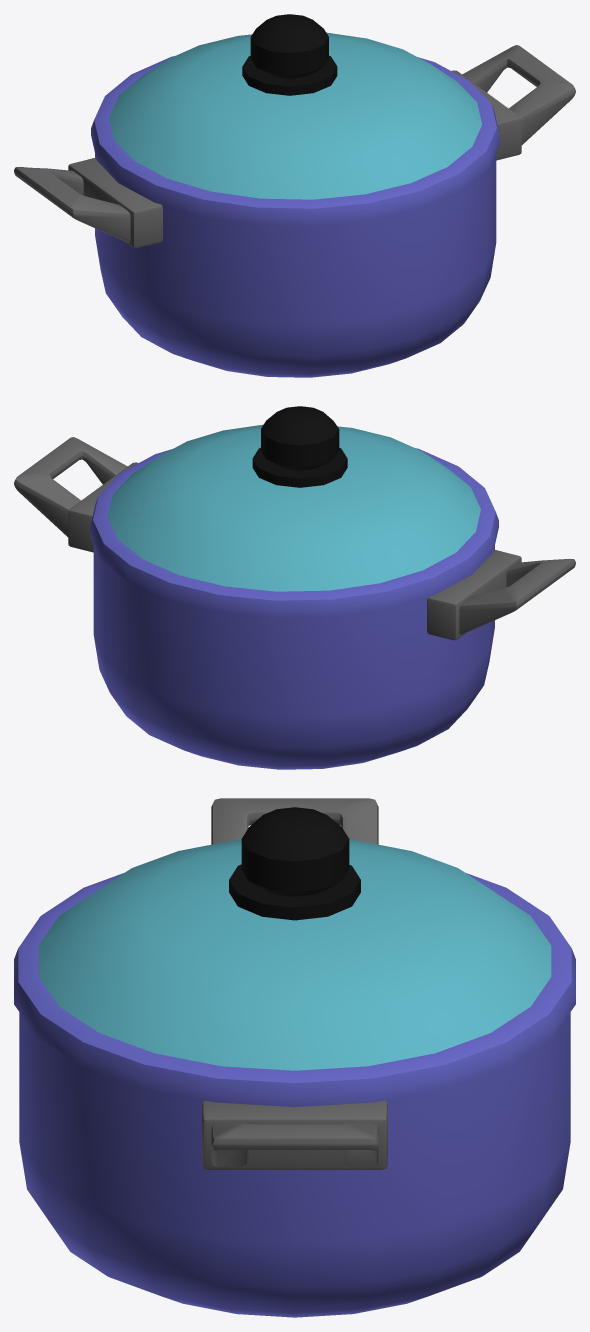
Rendered from SM_pot_05.fbx.
The picture shows the model from 3 angles, top to bottom: view 1: azimuth 30°, elevation 25°; view 2: azimuth 150°, elevation 25°; view 3: azimuth 270°, elevation 25°; orthographic projection. The views are drawn at different scales.
Parts seen in each view (by area): view 1: Cylinder013; view 2: Cylinder013; view 3: Cylinder013.
Boxes of the visible parts, bbox=[...] form: Cylinder013: bbox=[14, 14, 575, 377]; Cylinder013: bbox=[14, 406, 575, 769]; Cylinder013: bbox=[14, 798, 575, 1317].
Bounding box in the file's own units: 35.29 × 19.97 × 24.53.
